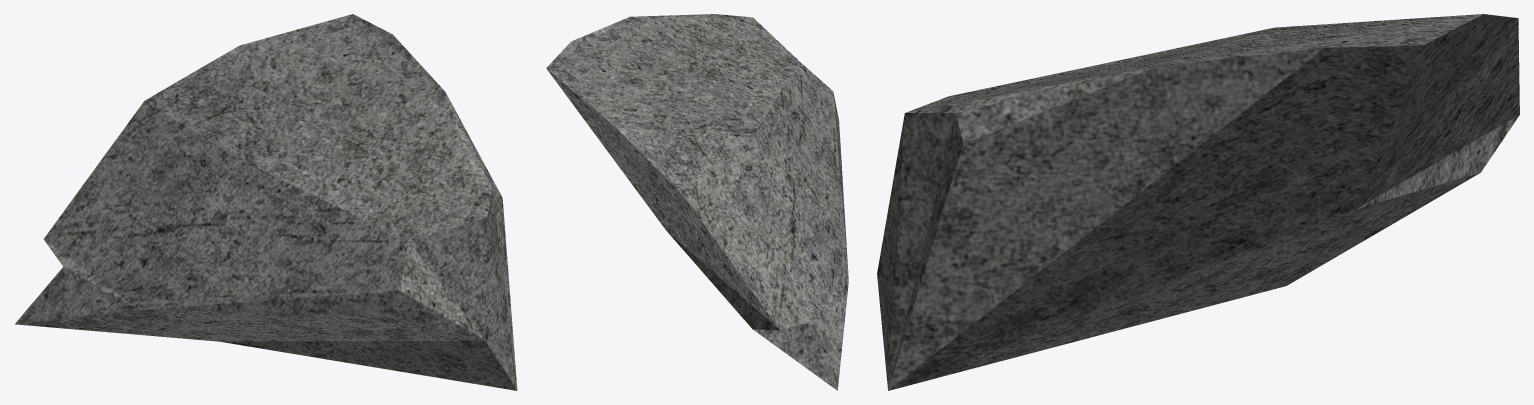
Rendered from roccia_piccola_7.fbx.
The picture shows the model from 3 angles, left to right: view 1: azimuth 30°, elevation 25°; view 2: azimuth 150°, elevation 25°; view 3: azimuth 270°, elevation 25°; orthographic projection. The views are drawn at different scales.
Parts seen in each view (by area): view 1: roccia_piccola_7; view 2: roccia_piccola_7; view 3: roccia_piccola_7.
Part boxes in pixels (x1=…): roccia_piccola_7: x1=15, y1=14, x2=517, y2=390; roccia_piccola_7: x1=546, y1=14, x2=848, y2=390; roccia_piccola_7: x1=877, y1=14, x2=1519, y2=390.
Size of the model in its own units: 16.18 by 11.89 by 18.55.
